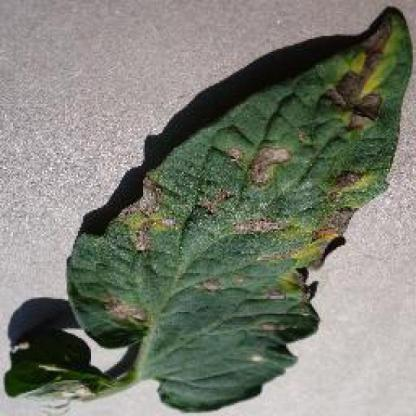Tomato_Blight: (6, 8, 412, 405)
